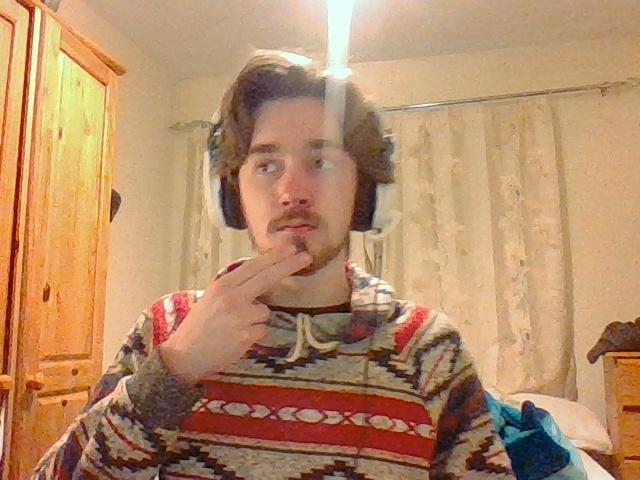afternoon: (154, 244, 312, 379)
